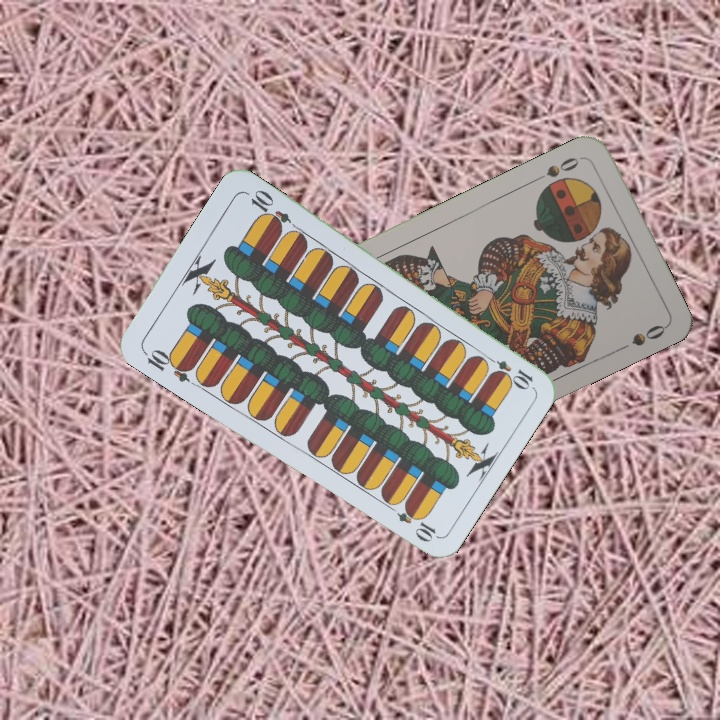E10: (139, 344, 196, 385), (480, 351, 536, 391)
SO: (531, 152, 587, 184)
